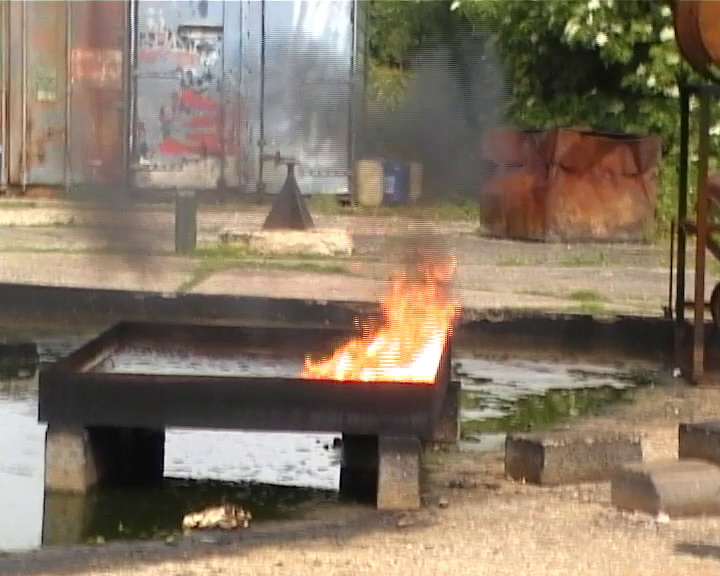fire: (305, 265, 460, 382)
